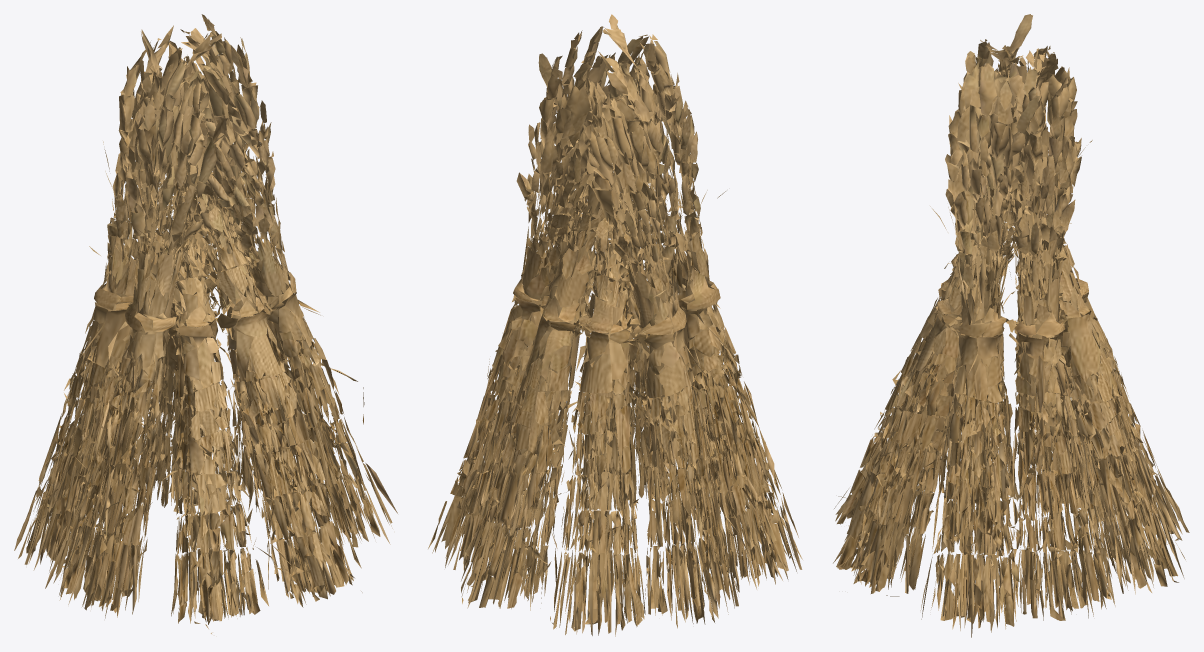
Rendered from grain-sheaves.glb.
The picture shows the model from 3 angles, left to right: view 1: azimuth 30°, elevation 25°; view 2: azimuth 150°, elevation 25°; view 3: azimuth 270°, elevation 25°; orthographic projection. The views are drawn at different scales.
Parts seen in each view (by area): view 1: Mesh_0; view 2: Mesh_0; view 3: Mesh_0.
Part boxes in pixels (<box>): Mesh_0: <box>14,14,397,633</box>; Mesh_0: <box>428,14,802,636</box>; Mesh_0: <box>833,14,1189,637</box>.
Size of the model in its own units: 0.68 by 0.9915 by 0.614.
Materials: 1 (1 with a texture image).
